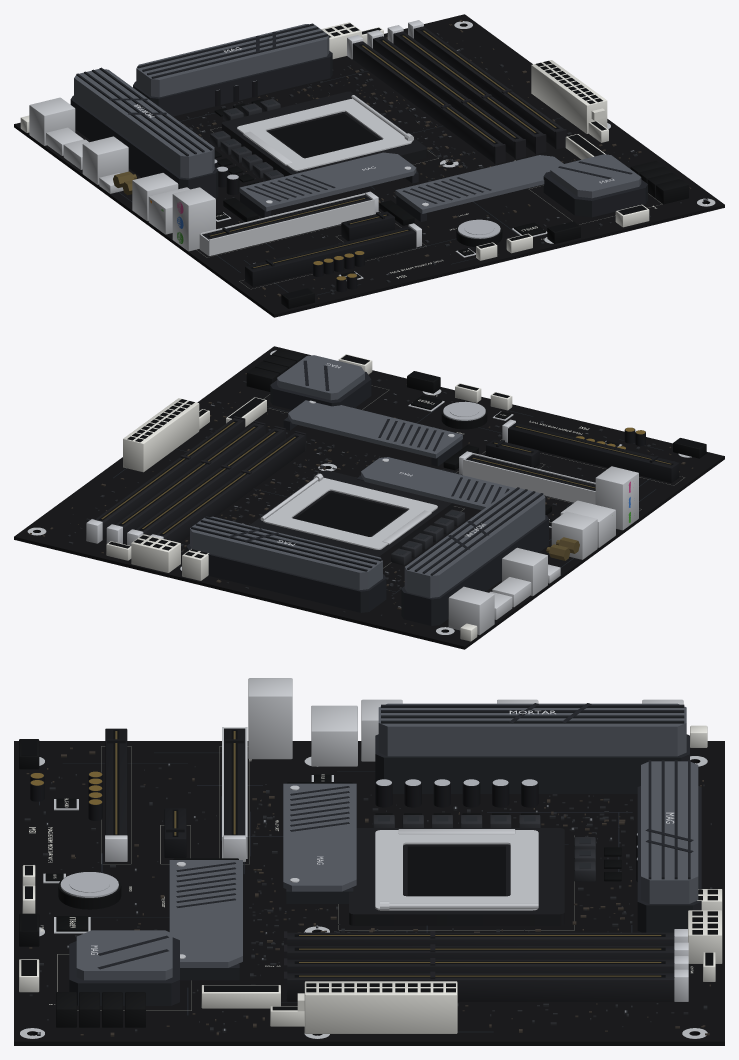
The model's file is msi-mag-b760m-mortar-wifi.glb.
The picture shows the model from 3 angles, top to bottom: view 1: azimuth 30°, elevation 25°; view 2: azimuth 150°, elevation 25°; view 3: azimuth 270°, elevation 25°; orthographic projection. The views are drawn at different scales.
Parts seen in each view (by area): view 1: pcb_soldermask, sink_plate, steel_bright, sink_dark, dimm_slot2, ic_black, conn_white, pcie_slot, socket_body, gold_contact_dim, choke_ferrite2, cap_body (+7 smaller); view 2: pcb_soldermask, sink_plate, steel_bright, sink_dark, dimm_slot2, ic_black, conn_white, pcie_slot, socket_body, gold_contact_dim, conn_black, sata_conn_colour (+6 smaller); view 3: pcb_soldermask, sink_plate, sink_dark, dimm_slot2, steel_bright, ic_black, conn_white, socket_body, pcie_slot, cap_body, sata_conn_colour, gold_contact_dim (+10 smaller).
Boxes of the visible parts, <box> form: pcb_soldermask: <box>14,14,724,317</box>; sink_plate: <box>74,24,641,213</box>; steel_bright: <box>29,95,428,255</box>; sink_dark: <box>70,23,647,221</box>; dimm_slot2: <box>352,26,566,164</box>; ic_black: <box>207,23,646,298</box>; conn_white: <box>20,22,649,260</box>; pcie_slot: <box>202,195,416,286</box>; socket_body: <box>221,91,427,176</box>; gold_contact_dim: <box>113,30,556,267</box>; choke_ferrite2: <box>210,98,283,181</box>; cap_body: <box>214,80,364,292</box>; pcb_soldermask: <box>14,346,724,649</box>; sink_plate: <box>190,355,545,597</box>; steel_bright: <box>260,400,638,634</box>; sink_dark: <box>186,360,548,625</box>; dimm_slot2: <box>95,416,306,543</box>; ic_black: <box>98,355,704,558</box>; conn_white: <box>106,354,512,641</box>; pcie_slot: <box>466,423,679,490</box>; socket_body: <box>249,470,453,561</box>; gold_contact_dim: <box>101,422,670,560</box>; conn_black: <box>407,371,706,458</box>; sata_conn_colour: <box>246,349,304,391</box>; pcb_soldermask: <box>14,741,724,1045</box>; sink_plate: <box>76,703,698,980</box>; sink_dark: <box>69,703,701,1005</box>; dimm_slot2: <box>284,931,674,1001</box>; steel_bright: <box>176,678,683,958</box>; ic_black: <box>21,730,717,1010</box>; conn_white: <box>19,725,722,1033</box>; socket_body: <box>349,828,564,925</box>; pcie_slot: <box>105,728,245,857</box>; cap_body: <box>30,771,637,881</box>; sata_conn_colour: <box>56,992,145,1027</box>; gold_contact_dim: <box>115,731,661,976</box>.
Bounding box in the file's own units: 0.244 × 0.0276 × 0.244.
